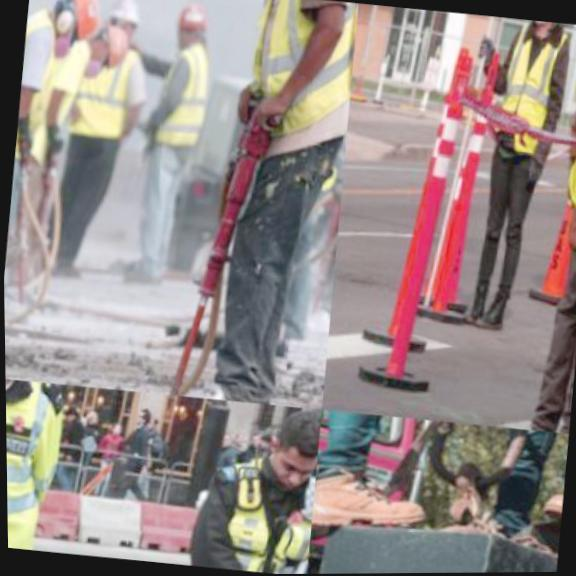safety_vest: (239, 0, 358, 162), (6, 376, 88, 554), (484, 16, 575, 169), (203, 453, 317, 575), (62, 36, 150, 153), (12, 0, 75, 163), (142, 42, 217, 159), (546, 23, 576, 229)
